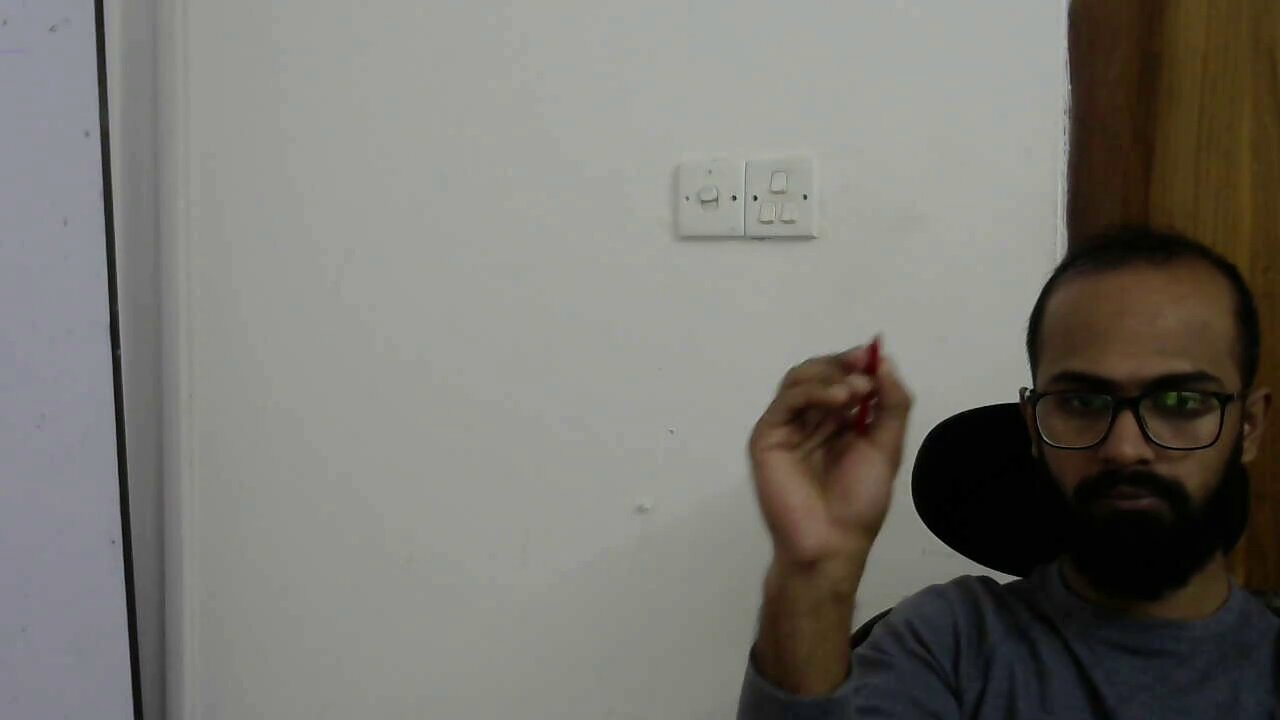pointer: (754, 346, 913, 489)
